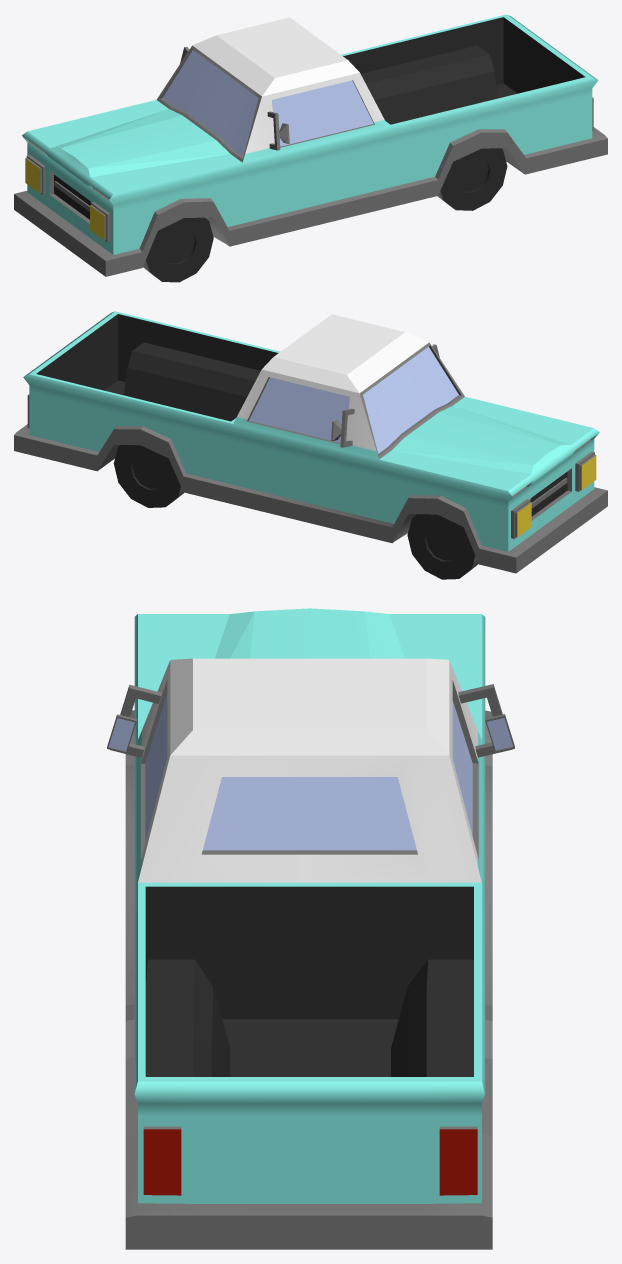
File: truck.fbx
3 views of the same model, one above another, from view 1: azimuth 30°, elevation 25°; view 2: azimuth 150°, elevation 25°; view 3: azimuth 270°, elevation 25° (orthographic). The views are drawn at different scales.
Parts seen in each view (by area): view 1: Box032; view 2: Box032; view 3: Box032.
Boxes of the visible parts, x1,y1,x2,y2 form: Box032: (14, 14, 607, 282); Box032: (14, 311, 607, 579); Box032: (107, 608, 514, 1249).
Size of the model in its own units: 92.05 by 29.78 by 32.4.
